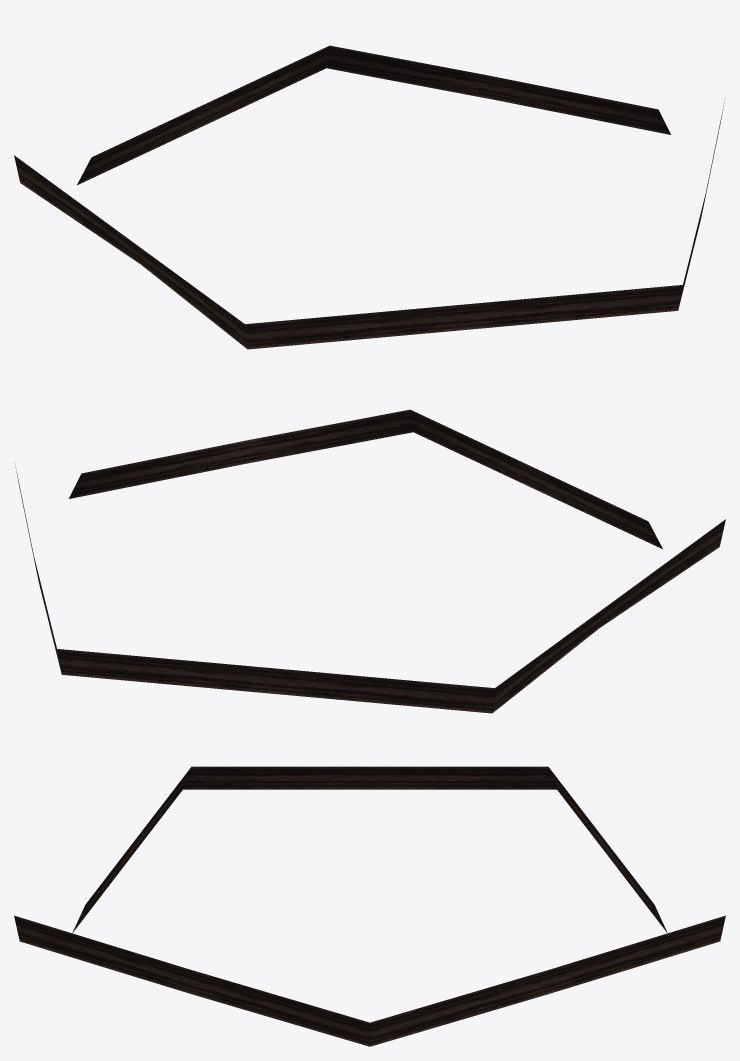
File: test-ceiling_ring-opt.glb
The picture shows the model from 3 angles, top to bottom: view 1: azimuth 30°, elevation 25°; view 2: azimuth 150°, elevation 25°; view 3: azimuth 270°, elevation 25°; orthographic projection. The views are drawn at different scales.
Parts seen in each view (by area): view 1: ceiling_ring; view 2: ceiling_ring; view 3: ceiling_ring.
Boxes of the visible parts, bbox=[...] form: ceiling_ring: bbox=[14, 45, 725, 349]; ceiling_ring: bbox=[14, 409, 725, 713]; ceiling_ring: bbox=[14, 766, 725, 1046].
Bounding box in the file's own units: 113 × 5.21 × 121.
1 material, 1 textured.
